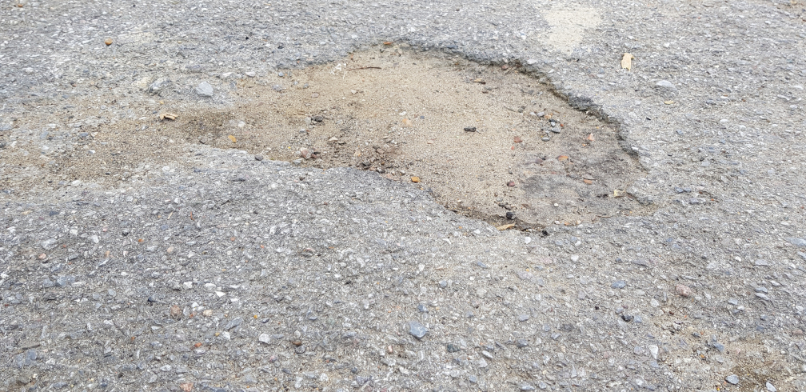pothole: (181, 32, 656, 244)
